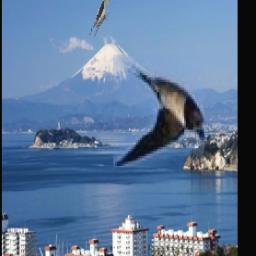Cuckoo: (87, 0, 110, 36)
Swallow: (114, 56, 205, 168)
